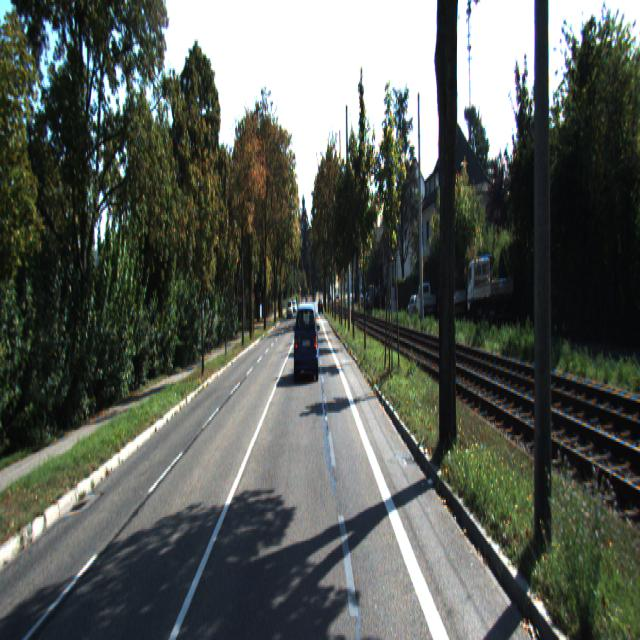Car: (467, 250, 514, 329), (293, 300, 319, 384), (437, 274, 467, 325), (416, 280, 436, 317)
